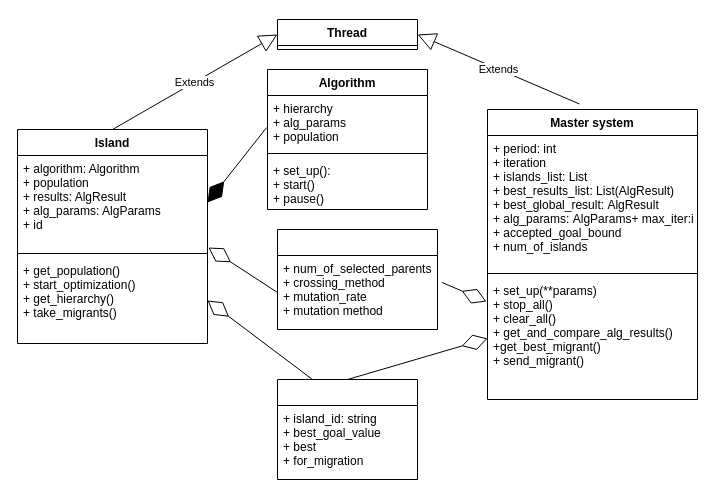
Some shapes in this 720 by 500 pixel diagram are drawn without their labels. The shapes that lost their labels are listed below. From the top down, each one's box as (x1, y1, x2, y2) in pixels, then its label:
(276, 228, 438, 330): AlgParams
(276, 378, 418, 480): AlgResult
